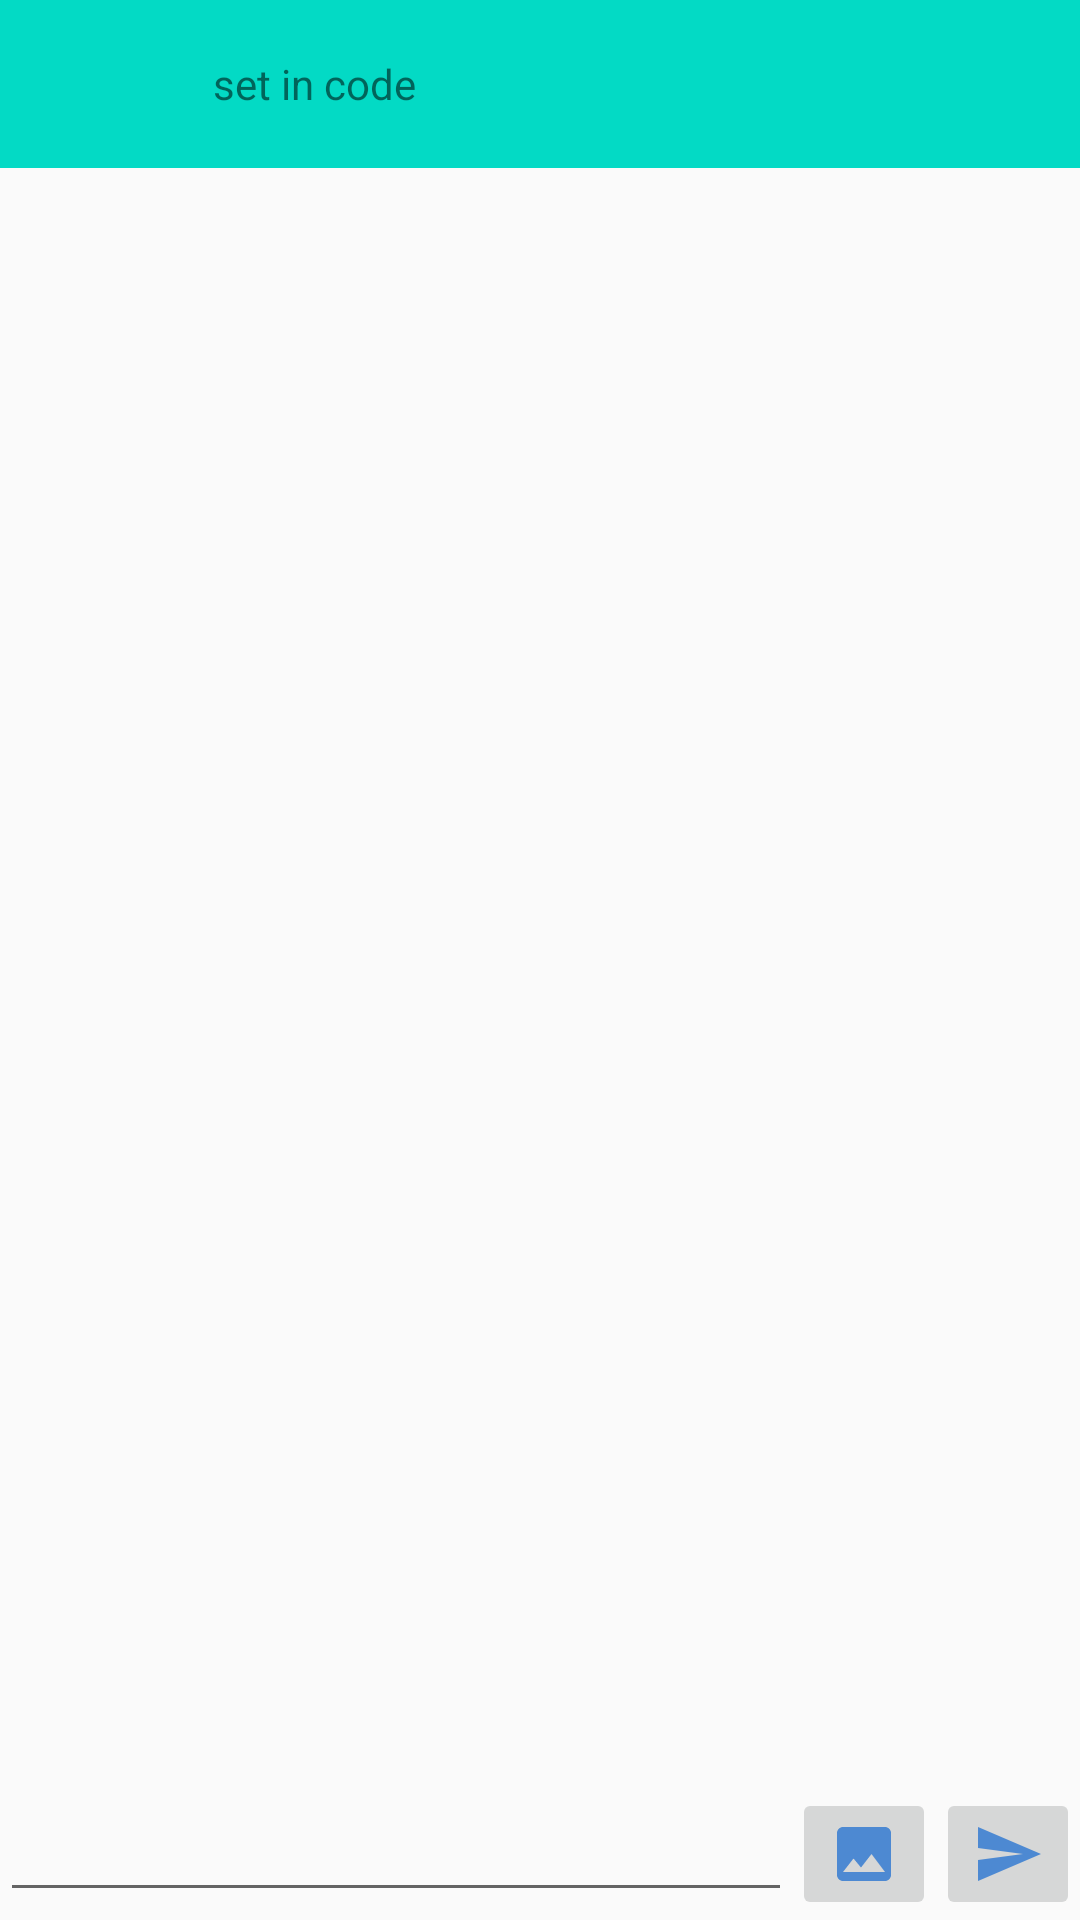

Icon bounding boxes for this 1080px×1920px phone screenshot, format (x1, y1, x2, y2):
send: (948, 1806, 1068, 1902)
